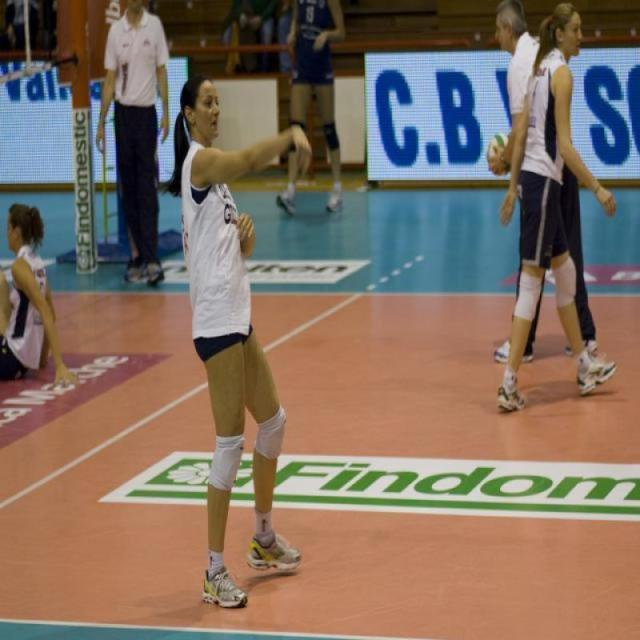volleyball: (486, 130, 518, 174)
